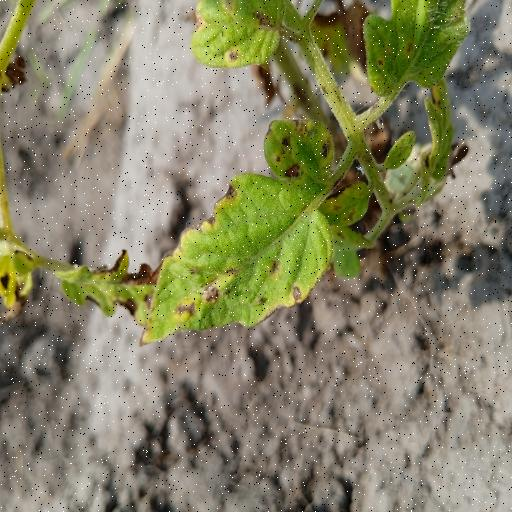Tomato_Brown_Spots: (139, 112, 350, 353)
